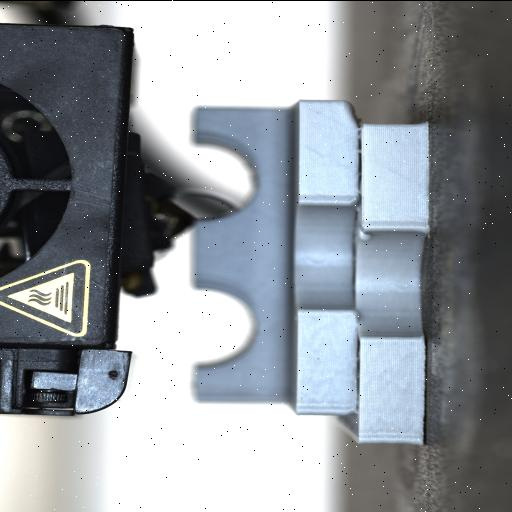layer_shift: (327, 90, 375, 446)
